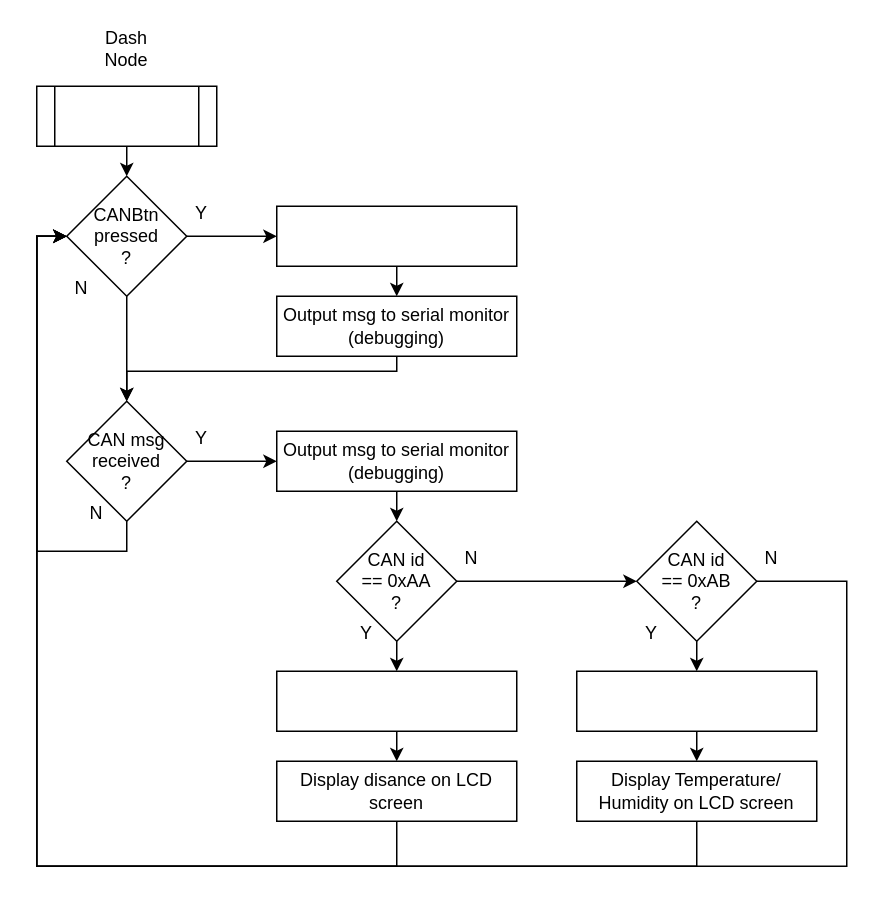
The diagram is 885 pixels wide and 905 high, and some of its shapes have lost their labels. Each missing label, with the centre of its shape:
"Copy data into float" belongs at pixel 696 700.
"Output distance to serial monitor" belongs at pixel 396 700.
"Setup/ Initialisation" belongs at pixel 126 115.
"Transmit CAN 0x0F, dlc8, data[0x01]" belongs at pixel 396 235.
